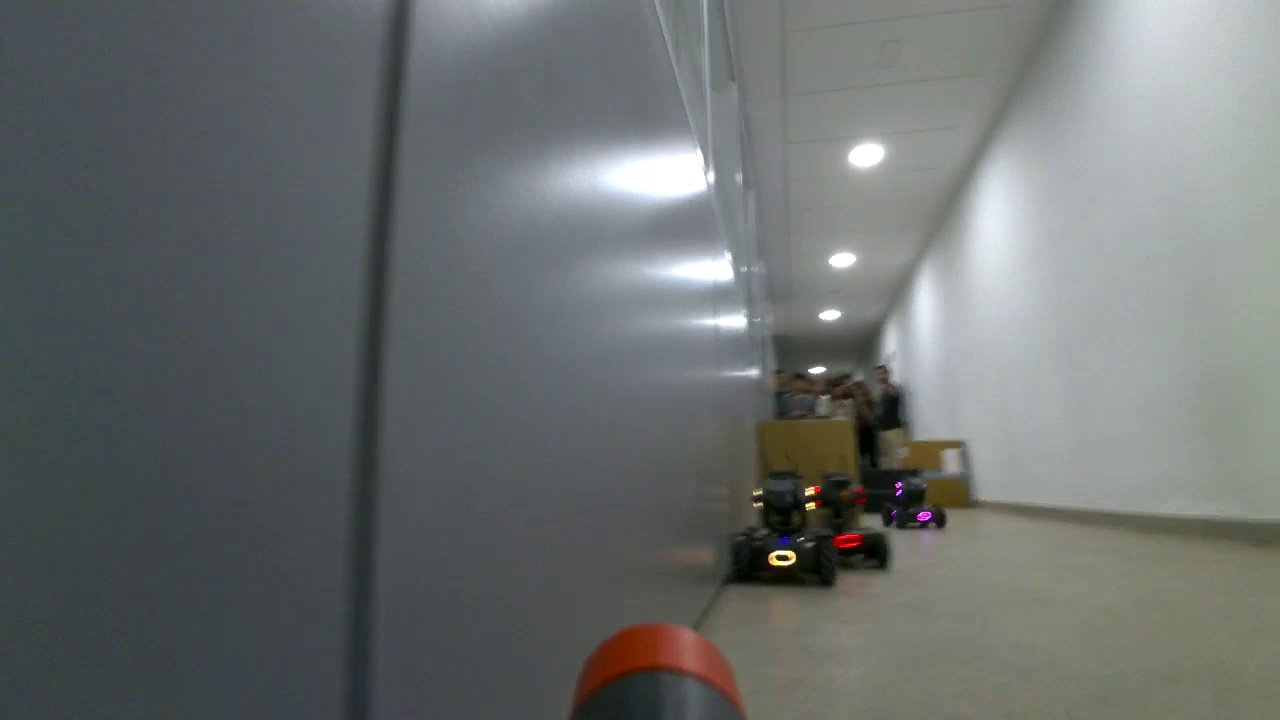robot: (727, 476, 836, 588), (816, 477, 888, 572), (879, 478, 949, 534)
